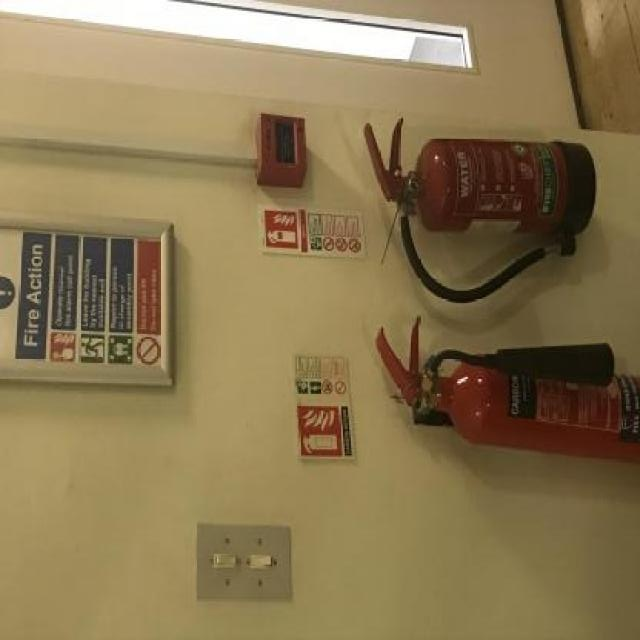fire extinguisher: (364, 117, 596, 305), (375, 317, 640, 466)
